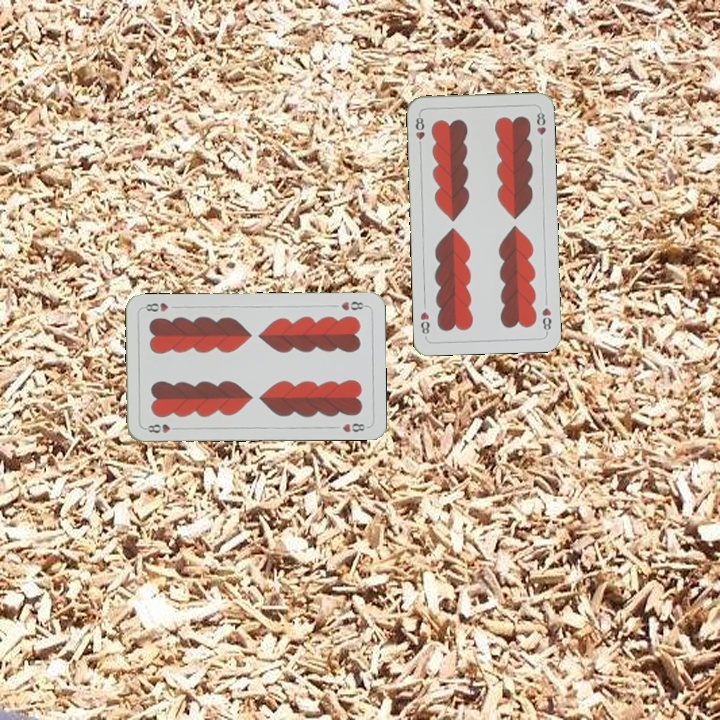H8: (411, 110, 427, 151), (141, 420, 182, 435), (337, 297, 369, 313), (538, 304, 554, 336)
